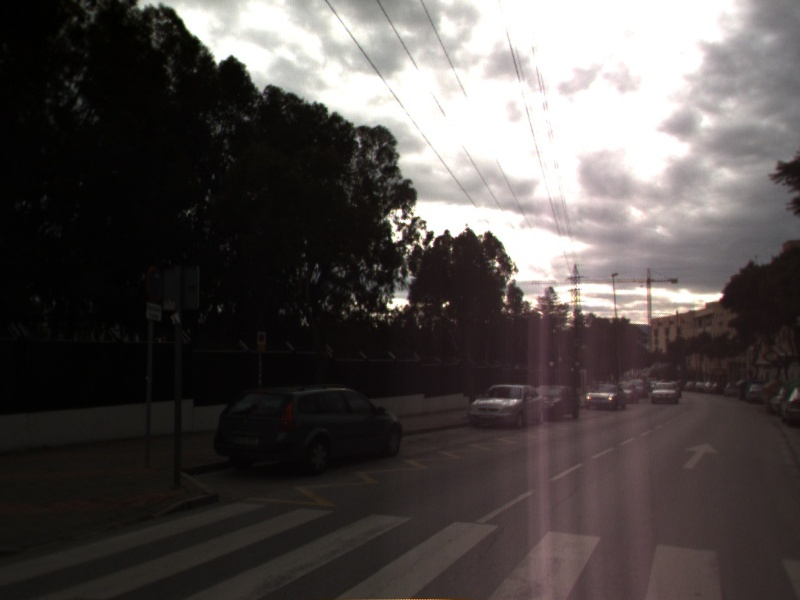STRAIGHT: (679, 440, 721, 471)
